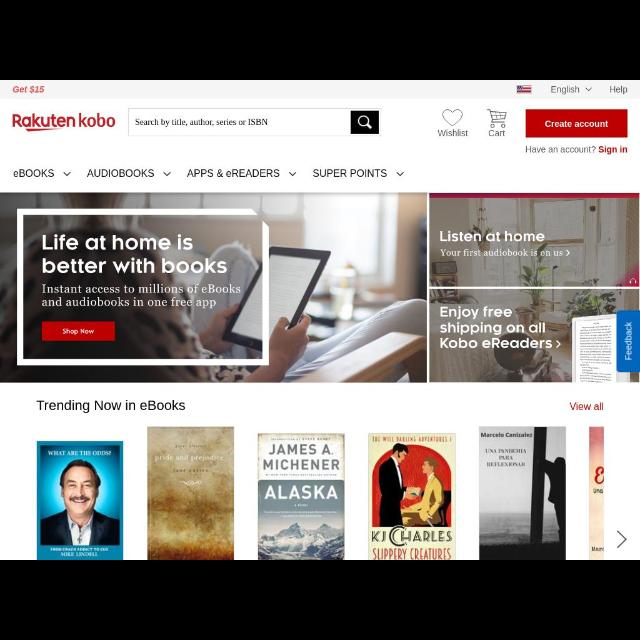backgroundimage: (1, 193, 640, 559)
button: (351, 110, 379, 134)
icon: (487, 110, 508, 128), (443, 110, 463, 126), (358, 115, 372, 129), (618, 530, 626, 548), (630, 278, 636, 284), (556, 339, 560, 348), (64, 171, 70, 177), (289, 172, 297, 176), (396, 172, 404, 176), (163, 172, 170, 176), (566, 250, 570, 256), (586, 87, 592, 91)
image: (480, 427, 566, 559), (148, 428, 234, 558), (259, 434, 345, 560), (369, 434, 455, 558), (38, 442, 122, 560), (590, 428, 604, 558), (516, 85, 532, 93)
input: (129, 108, 381, 136)
spinner: (188, 168, 296, 178), (312, 169, 403, 177), (88, 169, 170, 177), (13, 169, 71, 177), (552, 86, 592, 94)
text: (42, 258, 226, 274), (43, 234, 193, 250), (42, 297, 216, 309), (42, 284, 240, 294), (37, 401, 185, 414), (13, 112, 115, 128), (440, 322, 546, 334), (441, 230, 545, 242), (135, 119, 267, 128), (441, 338, 552, 348), (440, 306, 512, 320), (441, 249, 564, 257), (188, 168, 280, 178), (526, 146, 628, 154), (314, 169, 388, 177), (88, 169, 154, 177), (546, 120, 608, 128), (14, 170, 54, 177), (570, 402, 604, 410), (63, 328, 93, 336), (14, 85, 44, 93), (626, 322, 632, 361), (552, 87, 580, 95), (438, 130, 468, 136), (610, 86, 628, 94), (488, 130, 506, 136)
textbutton: (526, 110, 626, 136), (42, 322, 116, 341), (617, 310, 639, 372)
toolbar: (1, 81, 640, 192)
